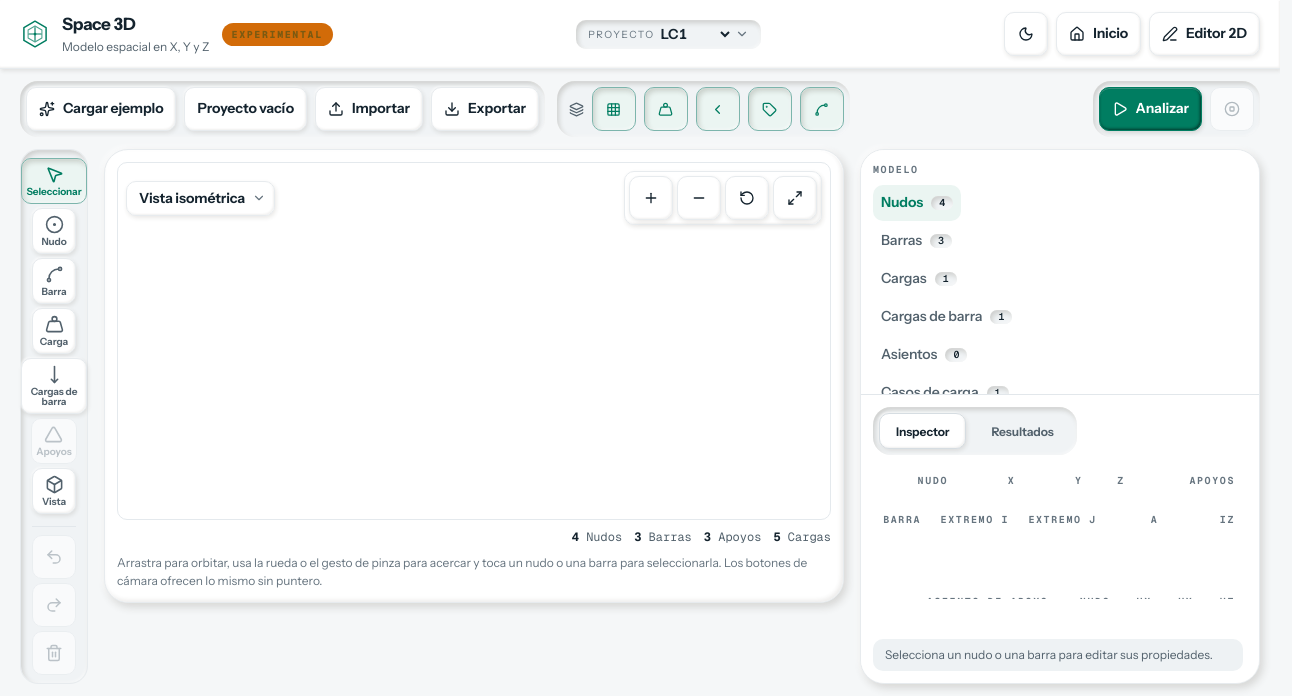
Test: Space3DWorkspace end to end › rechaza un valor vacío o no numérico sin crear la entidad
The width and height of the screenshot is (1292, 696).
Click the button with aria-label "nuevo nodo". click: (54, 231)
box: [32,208,76,254]
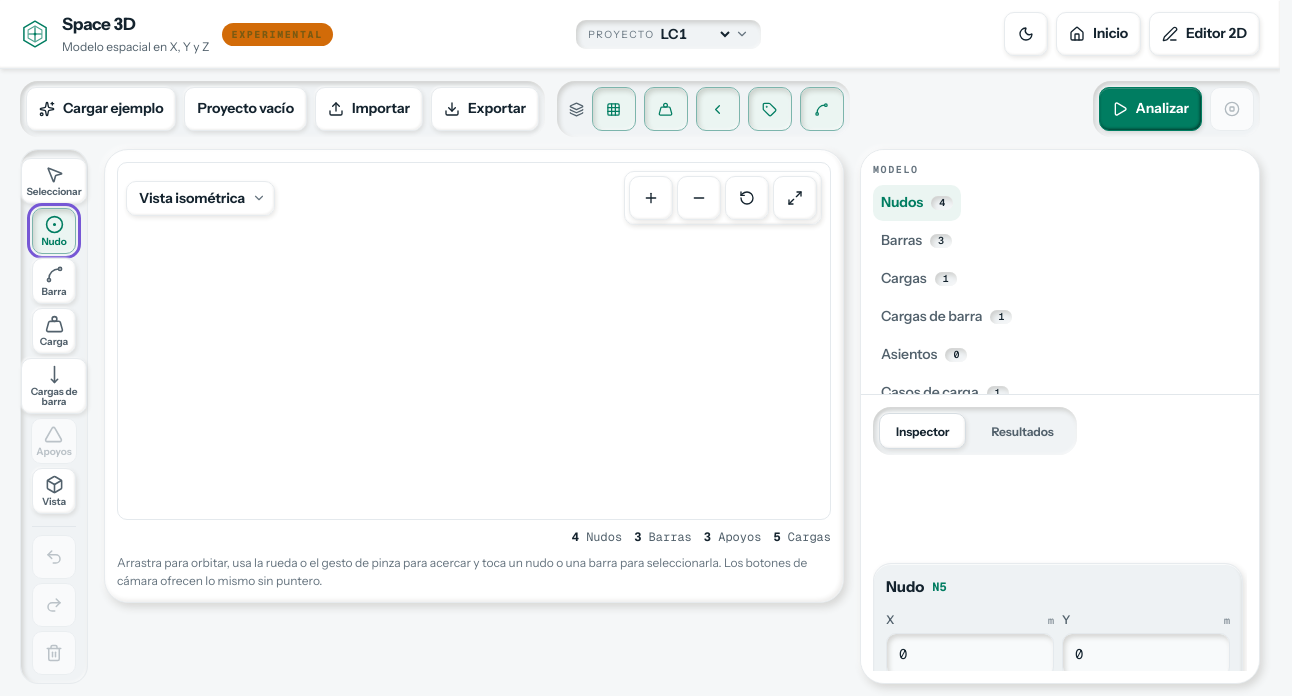
Clear the field labelled "Y". click: (1146, 654)
box: [1062,632,1230,676]
(page scrolled)
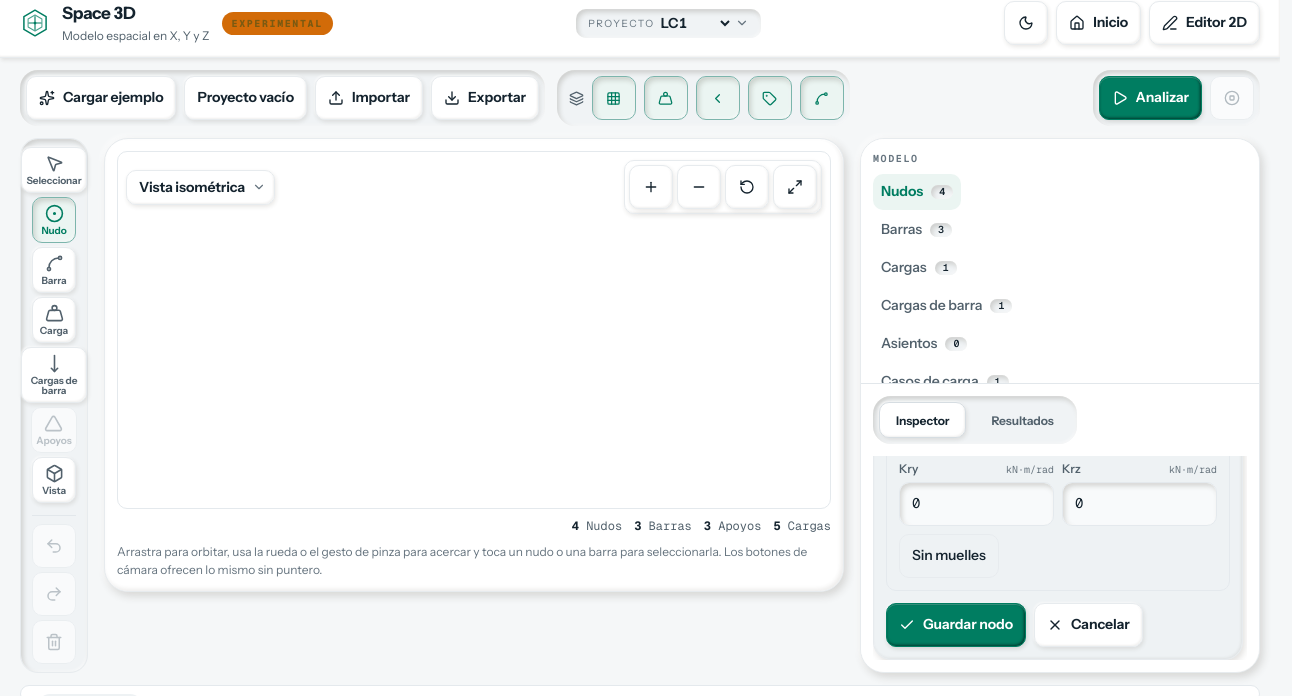
Click the button "Guardar nodo". click: (956, 624)
box: [886,602,1026,646]
(page scrolled)
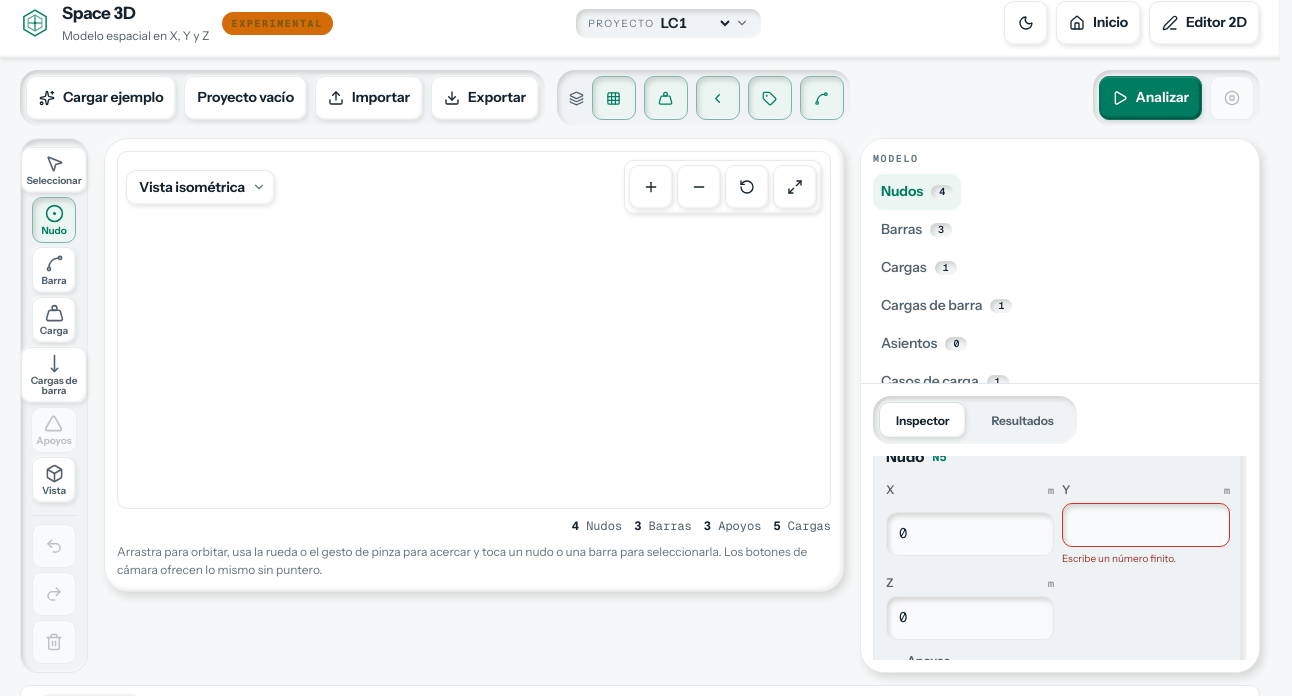
Now the text "Escribe un número finito." is shown, box [1062,552,1176,564]
